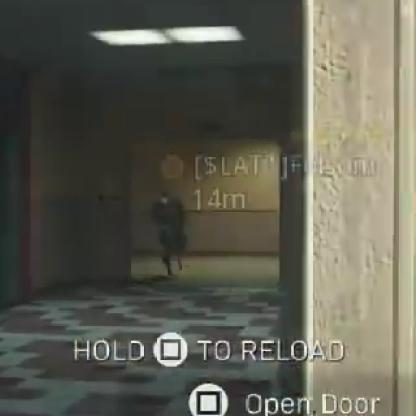enemy: (148, 186, 190, 277)
